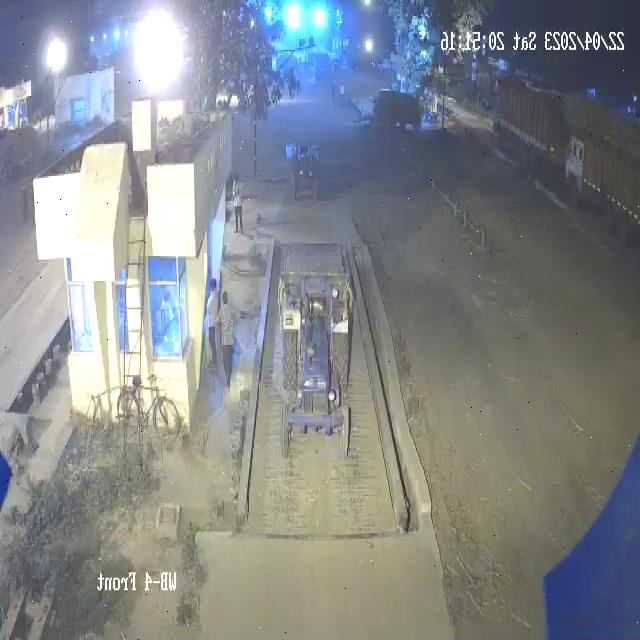Tratores - v5 YOLO V8L 2024-11-13: (277, 284, 362, 470), (280, 140, 327, 207)
